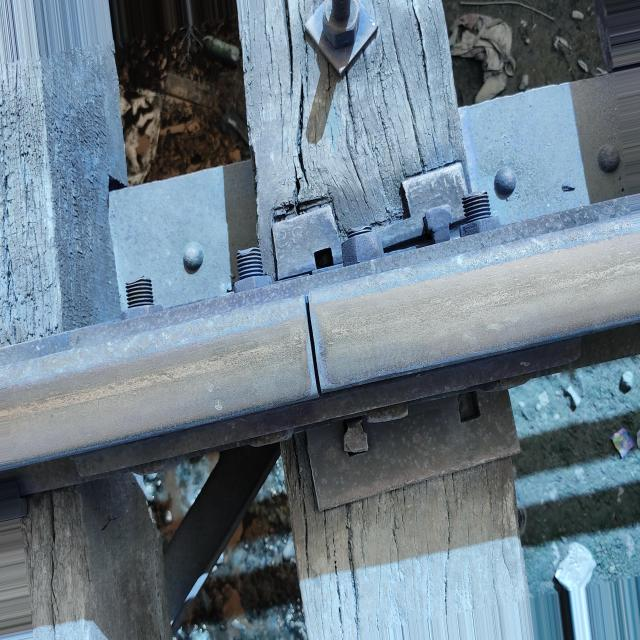crack: (282, 282, 352, 413)
